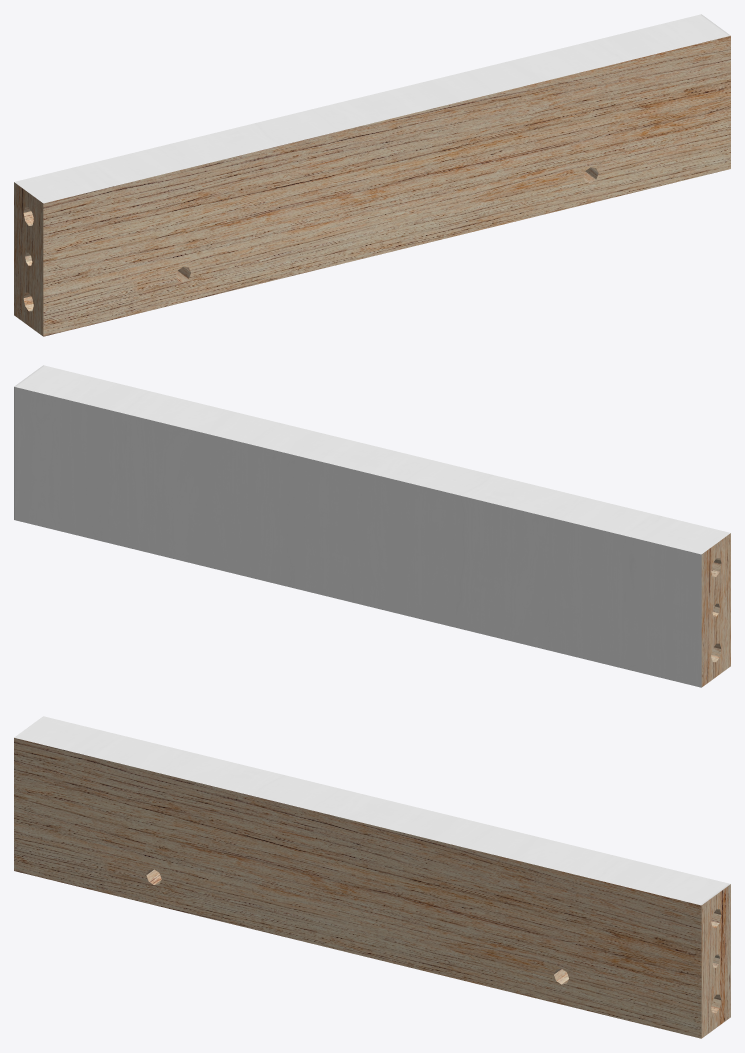
The model's file is ikea_stefan_short.obj.
3 renders of one model, top to bottom at view 1: azimuth 30°, elevation 25°; view 2: azimuth 150°, elevation 25°; view 3: azimuth 330°, elevation 25°, orthographic.
Parts seen in each view (by area): view 1: Ikea_Stefan_Short; view 2: Ikea_Stefan_Short; view 3: Ikea_Stefan_Short.
Part boxes in pixels (box(x1,y1,x2,y2)): Ikea_Stefan_Short: box(14, 14, 730, 336); Ikea_Stefan_Short: box(14, 365, 730, 687); Ikea_Stefan_Short: box(14, 716, 730, 1038).
Bounding box in the file's own units: 0.27 × 0.05 × 0.02.
1 material, 1 textured.
